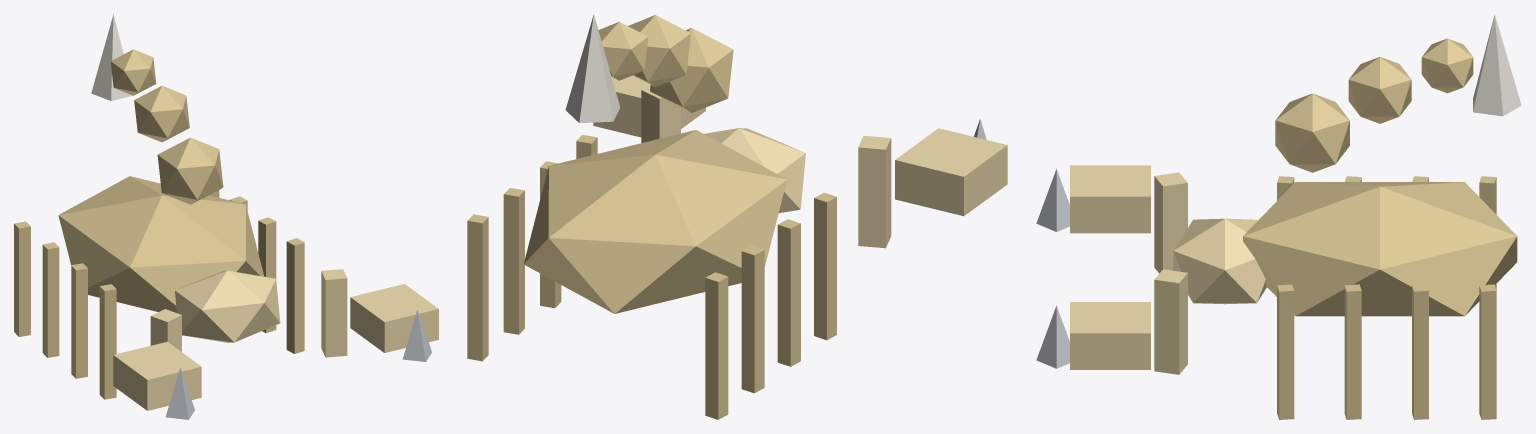
File: npc_desert_scorpion.glb
3 renders of one model, left to right at view 1: azimuth 30°, elevation 25°; view 2: azimuth 150°, elevation 25°; view 3: azimuth 270°, elevation 25°, orthographic. The views are drawn at different scales.
Visible parts, largest first — view 1: carapace, head.004, pincer_1, pincer_-1, tail_seg_0, tail_seg_1, claw_arm_1, leg_0_1, leg_2_-1, leg_0_-1, leg_1_-1, leg_3_-1 (+6 smaller); view 2: carapace, pincer_-1, tail_seg_0, claw_arm_-1, leg_1_-1, leg_2_-1, leg_3_-1, leg_0_-1, sting, head.004, leg_3_1, leg_2_1 (+5 smaller); view 3: carapace, head.004, pincer_-1, pincer_1, tail_seg_0, claw_arm_1, tail_seg_1, claw_arm_-1, sting, leg_0_1, leg_1_1, leg_3_1 (+5 smaller).
Part boxes in pixels (x1,y1,x2,y2): carapace: [58, 176, 264, 312]; head.004: [175, 270, 280, 342]; pincer_1: [350, 284, 438, 352]; pincer_-1: [113, 341, 201, 410]; tail_seg_0: [157, 137, 223, 204]; tail_seg_1: [134, 86, 189, 142]; claw_arm_1: [321, 269, 347, 357]; leg_0_1: [286, 238, 304, 353]; leg_2_-1: [42, 242, 59, 357]; leg_0_-1: [99, 284, 116, 399]; leg_1_-1: [71, 263, 87, 378]; leg_3_-1: [14, 221, 30, 336]; carapace: [524, 130, 787, 313]; pincer_-1: [895, 128, 1007, 216]; tail_seg_0: [650, 28, 733, 112]; claw_arm_-1: [858, 135, 891, 248]; leg_1_-1: [777, 219, 800, 366]; leg_2_-1: [741, 245, 764, 393]; leg_3_-1: [705, 272, 728, 419]; leg_0_-1: [814, 192, 836, 340]; sting: [565, 14, 620, 123]; head.004: [704, 128, 805, 213]; leg_3_1: [467, 214, 488, 361]; leg_2_1: [503, 188, 524, 334]; carapace: [1243, 182, 1517, 316]; head.004: [1173, 218, 1266, 304]; pincer_-1: [1070, 165, 1150, 233]; pincer_1: [1070, 302, 1150, 369]; tail_seg_0: [1275, 93, 1349, 172]; claw_arm_1: [1154, 269, 1187, 374]; tail_seg_1: [1348, 57, 1411, 123]; claw_arm_-1: [1154, 172, 1187, 273]; sting: [1473, 14, 1521, 116]; leg_0_1: [1277, 284, 1294, 419]; leg_1_1: [1344, 284, 1361, 419]; leg_3_1: [1479, 284, 1496, 419].
Size of the model in its own units: 1.18 by 1.14 by 1.44.
